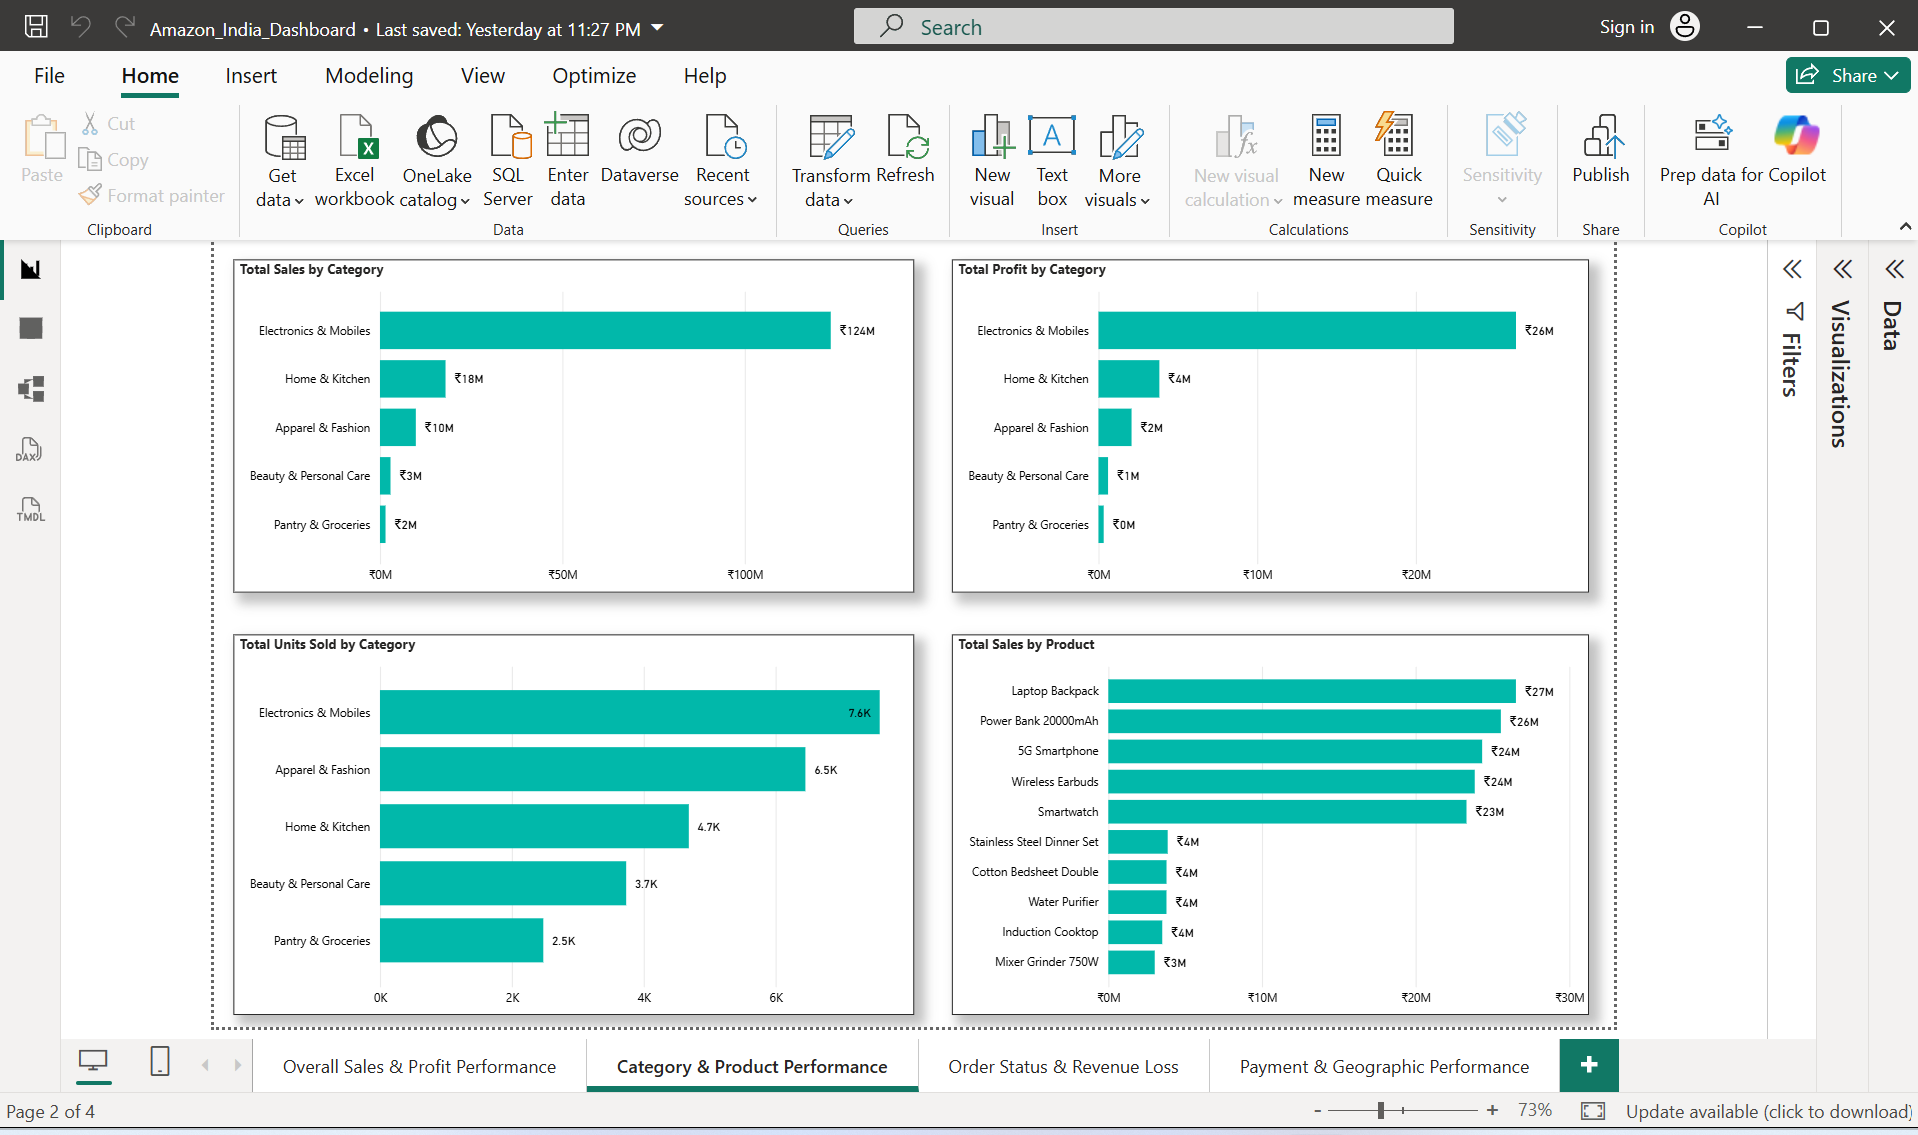

What the dashboard file says about the page in this screenshot:
{"tool":"powerbi","page":{"name":"Category & Product Performance","canvas":[1280,720],"ordinal":1},"visuals":[{"type":"clusteredBarChart","fields":{"Category":["Amazon_sales.Category"],"Y":["Amazon_sales.Total Sales"]},"box":[18.2,18.2,622.3,304.4],"z":0},{"type":"clusteredBarChart","fields":{"Category":["Amazon_sales.Category"],"Y":["Amazon_sales.Total Profit"]},"box":[675.3,18.2,583,304.4],"z":1000},{"type":"clusteredBarChart","fields":{"Category":["Amazon_sales.Category"],"Y":["Amazon_sales.Total Units Sold"]},"box":[18.2,360.4,622.3,348.3],"z":2000},{"type":"clusteredBarChart","fields":{"Category":["Amazon_sales.Product"],"Y":["Amazon_sales.Total Sales"]},"box":[675.3,360.4,583,348.3],"z":3000}]}

Visuals, with their boxes on the page's 1280x720 design canvas (x1, y1, x2, y2). These are canvas units, not pixel positions in the 1918x1135 screenshot, which may show the page scaled, cropped or inside an application window:
clusteredBarChart - Amazon_sales.Category x Amazon_sales.Total Sales: select_region(18, 18, 640, 323)
clusteredBarChart - Amazon_sales.Category x Amazon_sales.Total Profit: select_region(675, 18, 1258, 323)
clusteredBarChart - Amazon_sales.Category x Amazon_sales.Total Units Sold: select_region(18, 360, 640, 709)
clusteredBarChart - Amazon_sales.Product x Amazon_sales.Total Sales: select_region(675, 360, 1258, 709)
